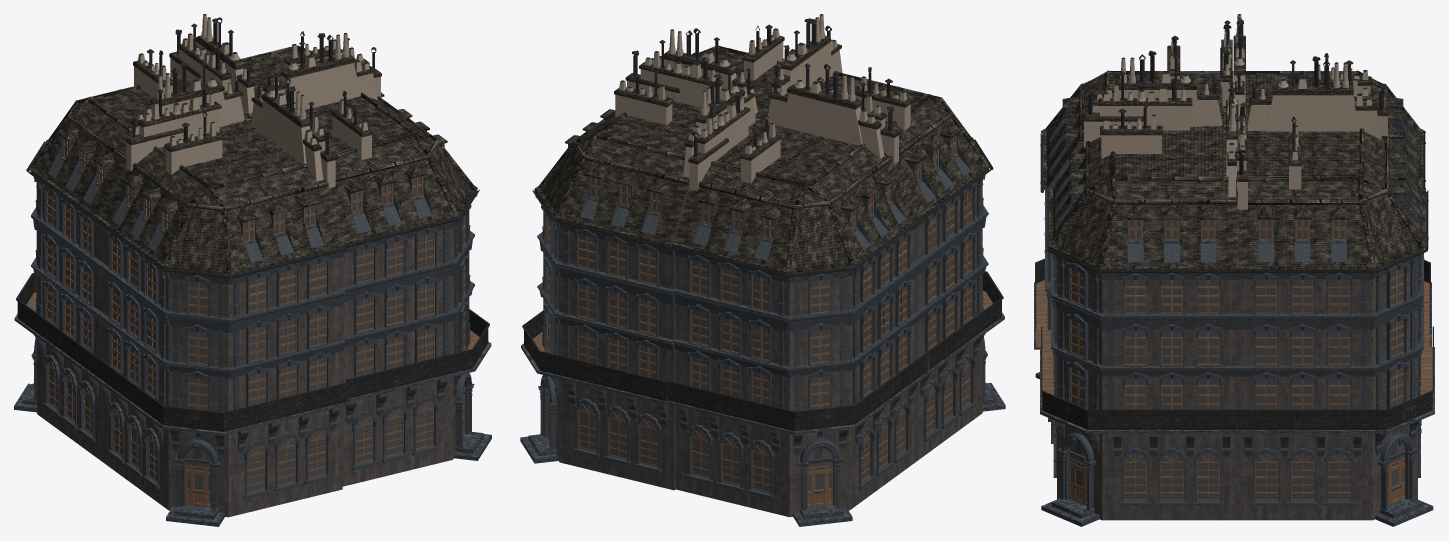
File: Edificio3.obj
The picture shows the model from 3 angles, left to right: view 1: azimuth 30°, elevation 25°; view 2: azimuth 150°, elevation 25°; view 3: azimuth 270°, elevation 25°; orthographic projection. The views are drawn at different scales.
Visible parts, largest first — view 1: Плоскость.004_roof.001, Плоскость.004_brick.001, Плоскость.004_granite_.001, Плоскость.004_roof.002, Плоскость.004_granite_windows.001, Плоскость.004_glass.001, Плоскость.004_brick.002, Плоскость.004_roof, Плоскость.004_granite_.002, Плоскость.004_wood.001, Плоскость.004_plaster.001, Плоскость.004_glass.002 (+18 smaller); view 2: Плоскость.004_roof, Плоскость.004_brick, Плоскость.004_granite_, Плоскость.004_roof.003, Плоскость.004_granite_windows, Плоскость.004_brick.003, Плоскость.004_glass, Плоскость.004_granite_.003, Плоскость.004_wood, Плоскость.004_roof.001, Плоскость.004_plaster, Плоскость.004_glass.003 (+18 smaller); view 3: Плоскость.004_roof.003, Плоскость.004_roof.002, Плоскость.004_brick.003, Плоскость.004_brick.002, Плоскость.004_granite_.002, Плоскость.004_granite_.003, Плоскость.004_glass.003, Плоскость.004_glass.002, Плоскость.004_wood.002, Плоскость.004_wood.003, Плоскость.004_granite_windows.002, Плоскость.004_granite_windows.003 (+15 smaller).
Part boxes in pixels (<box>): Плоскость.004_roof.001: <box>96,93,346,275</box>; Плоскость.004_brick.001: <box>103,231,342,517</box>; Плоскость.004_granite_.001: <box>89,130,350,526</box>; Плоскость.004_roof.002: <box>263,54,476,244</box>; Плоскость.004_granite_windows.001: <box>107,232,331,499</box>; Плоскость.004_glass.001: <box>112,186,325,492</box>; Плоскость.004_brick.002: <box>342,227,466,486</box>; Плоскость.004_roof: <box>29,44,251,218</box>; Плоскость.004_granite_.002: <box>342,109,491,460</box>; Плоскость.004_wood.001: <box>111,84,326,507</box>; Плоскость.004_plaster.001: <box>126,90,322,181</box>; Плоскость.004_glass.002: <box>352,176,464,463</box>; Плоскость.004_roof: <box>671,83,922,273</box>; Плоскость.004_brick: <box>675,229,915,517</box>; Плоскость.004_granite_: <box>667,126,930,526</box>; Плоскость.004_roof.003: <box>535,62,761,246</box>; Плоскость.004_granite_windows: <box>686,230,911,499</box>; Плоскость.004_brick.003: <box>546,185,689,490</box>; Плоскость.004_glass: <box>692,184,906,491</box>; Плоскость.004_granite_.003: <box>520,118,674,463</box>; Плоскость.004_wood: <box>690,69,907,507</box>; Плоскость.004_roof.001: <box>764,35,990,215</box>; Плоскость.004_plaster: <box>689,75,884,190</box>; Плоскость.004_glass.003: <box>548,177,660,465</box>; Плоскость.004_roof.003: <box>1235,84,1426,269</box>; Плоскость.004_roof.002: <box>1048,98,1238,269</box>; Плоскость.004_brick.003: <box>1236,260,1417,520</box>; Плоскость.004_brick.002: <box>1057,260,1238,520</box>; Плоскость.004_granite_.002: <box>1040,164,1238,526</box>; Плоскость.004_granite_.003: <box>1236,131,1434,526</box>; Плоскость.004_glass.003: <box>1255,219,1403,499</box>; Плоскость.004_glass.002: <box>1071,219,1219,499</box>; Плоскость.004_wood.002: <box>1042,219,1219,505</box>; Плоскость.004_wood.003: <box>1242,62,1432,505</box>; Плоскость.004_granite_windows.002: <box>1050,258,1223,506</box>; Плоскость.004_granite_windows.003: <box>1251,258,1424,506</box>.
Bounding box in the file's own units: 42.52 × 46.1 × 42.98.
